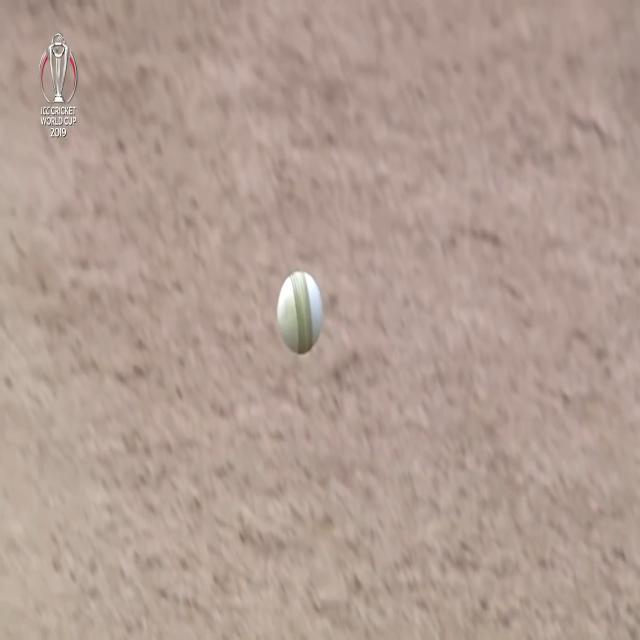Cricket ball: (276, 267, 325, 357)
